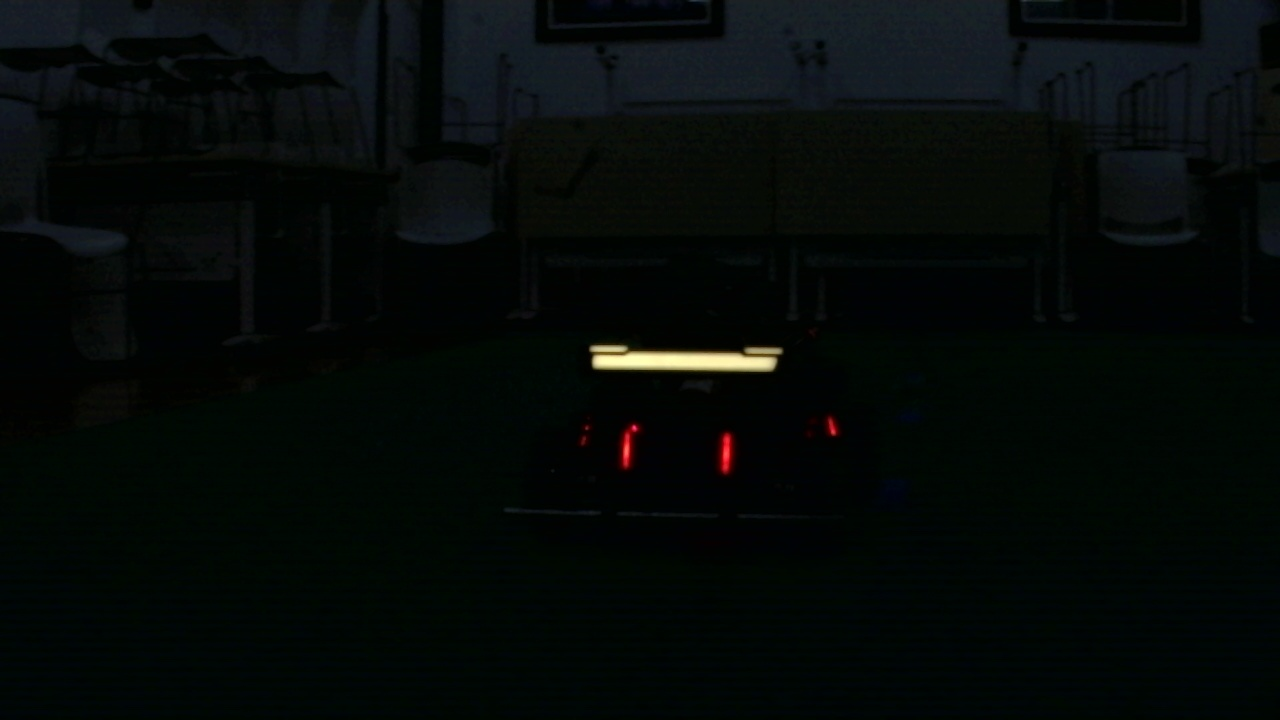lamp: (719, 435, 736, 480), (619, 427, 633, 473)
pair1: (620, 430, 733, 468)
